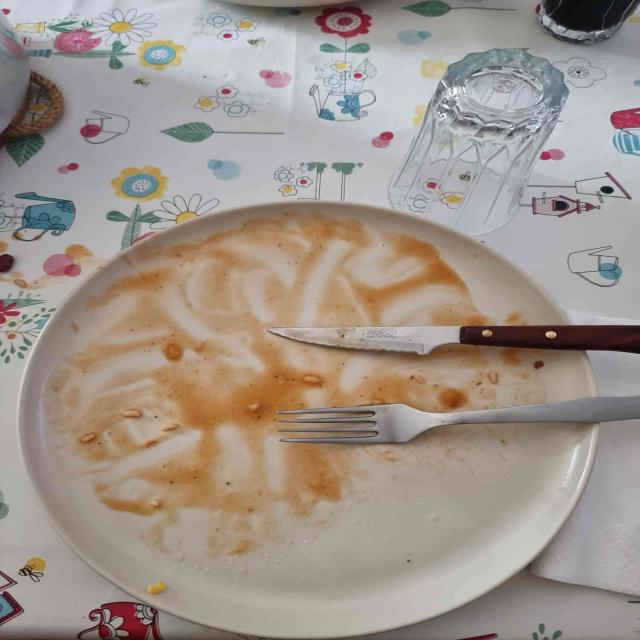cup: (389, 49, 568, 236)
fork: (279, 396, 640, 444)
garbage: (51, 213, 564, 556), (531, 419, 640, 596), (588, 353, 640, 397), (565, 309, 640, 324)
knife: (270, 325, 640, 355)
plate: (17, 201, 599, 637)
